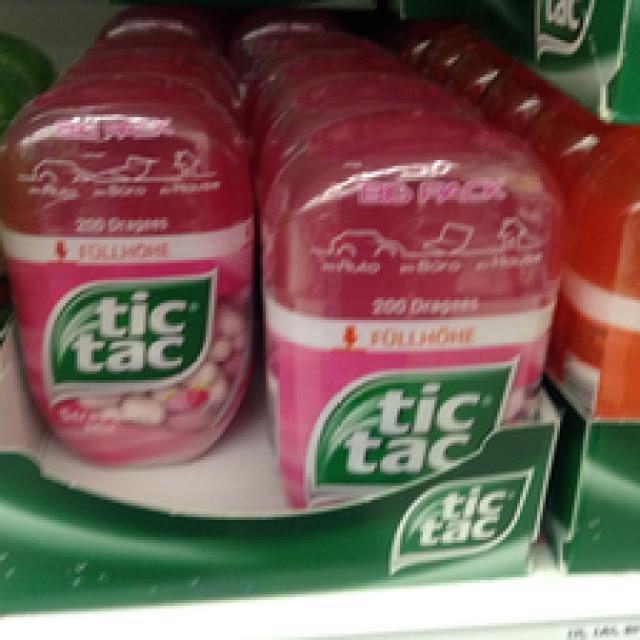groceries: (234, 106, 569, 534), (6, 77, 246, 466)
